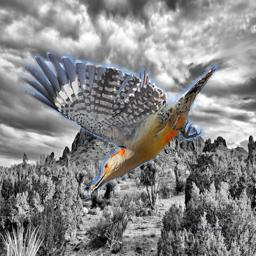Woodpecker: (17, 50, 218, 199)
